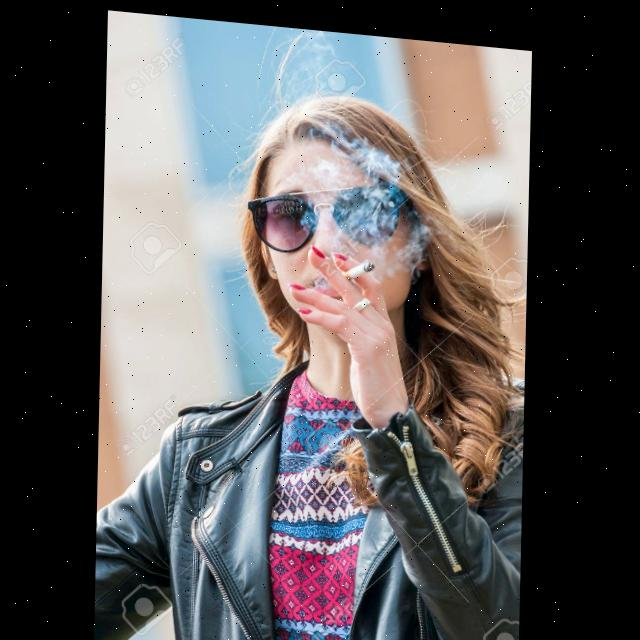cigarette: (344, 252, 376, 275)
